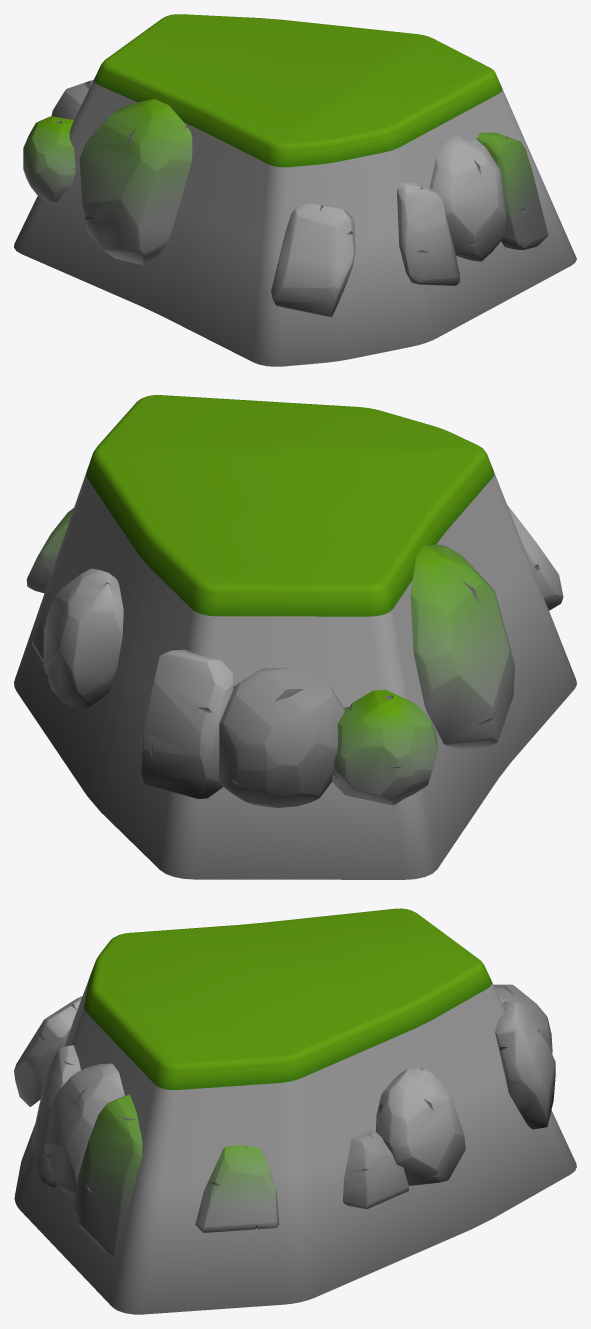
File: RockMountain02.fbx
3 views of the same model, one above another, from view 1: azimuth 30°, elevation 25°; view 2: azimuth 150°, elevation 25°; view 3: azimuth 270°, elevation 25° (orthographic). The views are drawn at different scales.
Visible parts, largest first — view 1: LOD0; view 2: LOD0; view 3: LOD0.
Part boxes in pixels (box(x1,y1,x2,y2)): LOD0: box(14, 14, 576, 366); LOD0: box(14, 395, 576, 879); LOD0: box(14, 908, 576, 1314).
Size of what is drawn, in the model's own units: 858 by 894 by 375.
